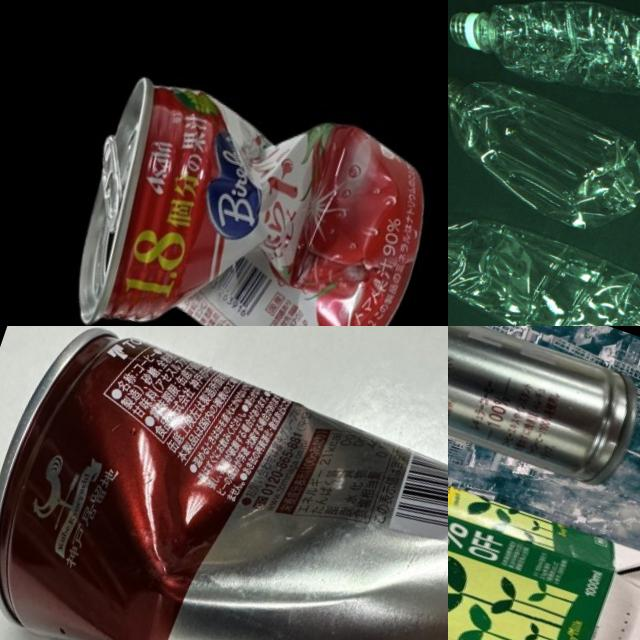Aluminium Foil: (448, 375, 640, 640)
Can: (0, 326, 448, 640), (33, 44, 448, 326), (448, 56, 640, 234), (448, 326, 640, 490), (448, 185, 640, 326), (448, 0, 640, 112)
